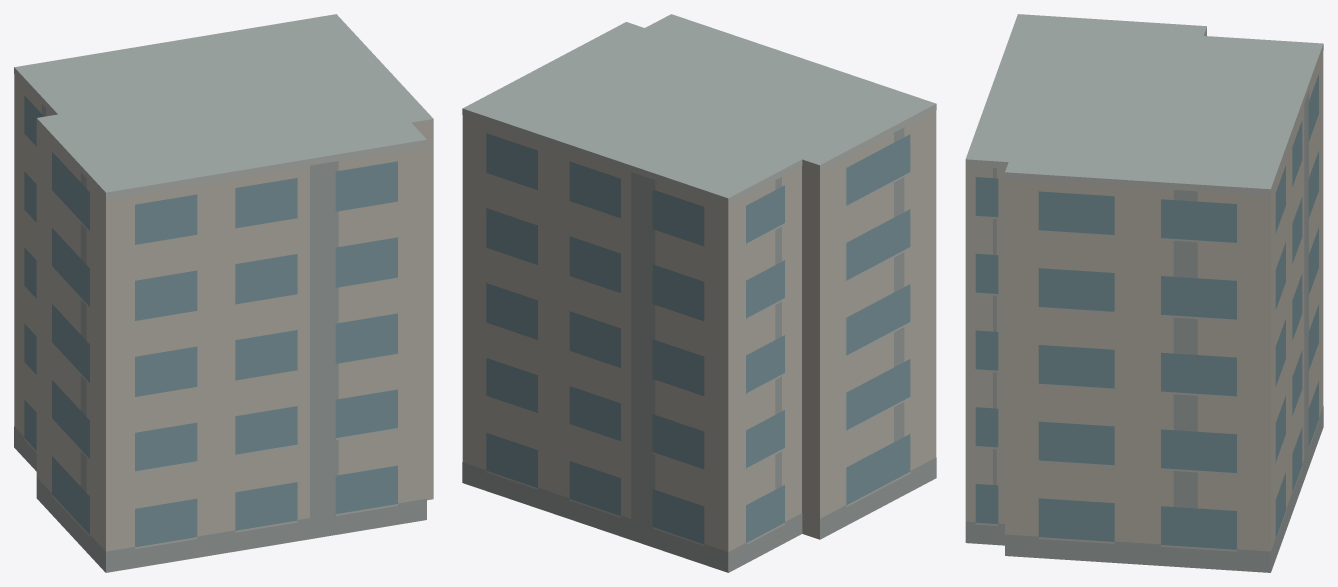
Rendered from survey-upis-32806311.glb.
3 renders of one model, left to right at view 1: azimuth 30°, elevation 25°; view 2: azimuth 150°, elevation 25°; view 3: azimuth 270°, elevation 25°, orthographic. The views are drawn at different scales.
Parts seen in each view (by area): view 1: survey-upis-32806311.tmp; view 2: survey-upis-32806311.tmp; view 3: survey-upis-32806311.tmp.
Boxes of the visible parts, left/top/right/bottom form: survey-upis-32806311.tmp: left=14, top=14, right=433, bottom=572; survey-upis-32806311.tmp: left=462, top=14, right=936, bottom=572; survey-upis-32806311.tmp: left=965, top=14, right=1323, bottom=572.
Size of the model in its own units: 13.53 by 13.8 by 11.68.
